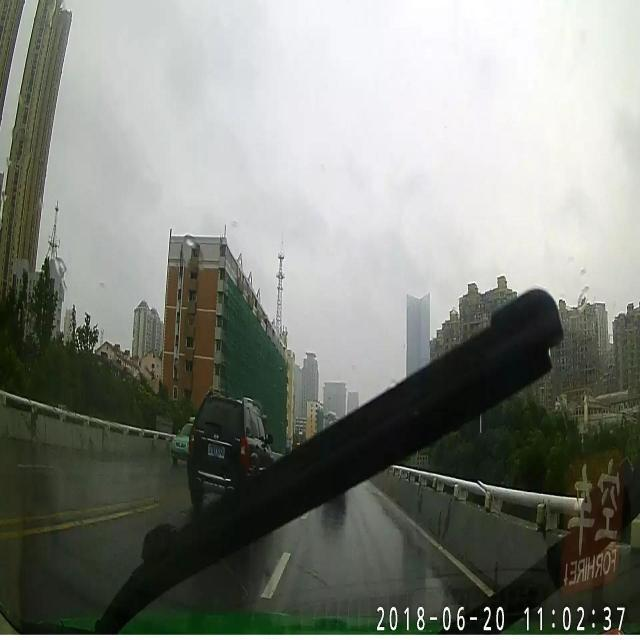car: (188, 393, 276, 503), (171, 418, 192, 468)
